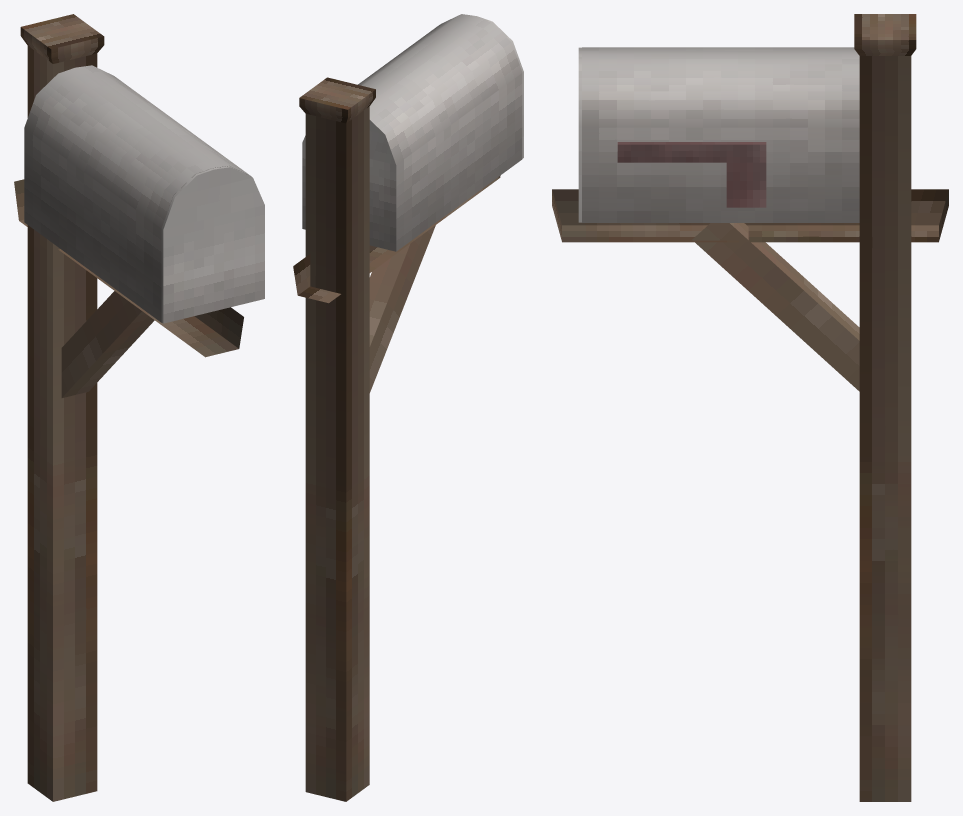
Rendered from mailbox.glb.
3 views of the same model, side by side, from view 1: azimuth 30°, elevation 25°; view 2: azimuth 150°, elevation 25°; view 3: azimuth 270°, elevation 25° (orthographic). The views are drawn at different scales.
Visible parts, largest first — view 1: MailPost, Mailbox, MailboxLid; view 2: MailPost, Mailbox; view 3: MailPost, Mailbox, MailboxFlag, MailboxLid.
Boxes of the visible parts, left/top/right/bottom form: MailPost: left=14, top=14, right=243, bottom=801; Mailbox: left=24, top=65, right=251, bottom=322; MailboxLid: left=161, top=166, right=264, bottom=323; MailPost: left=293, top=77, right=500, bottom=801; Mailbox: left=302, top=15, right=522, bottom=251; MailPost: left=552, top=14, right=948, bottom=801; Mailbox: left=582, top=47, right=859, bottom=222; MailboxFlag: left=617, top=142, right=766, bottom=207; MailboxLid: left=578, top=47, right=581, bottom=222.
Bounding box in the file's own units: 63 × 425 × 200.
4 materials, 4 textured.
